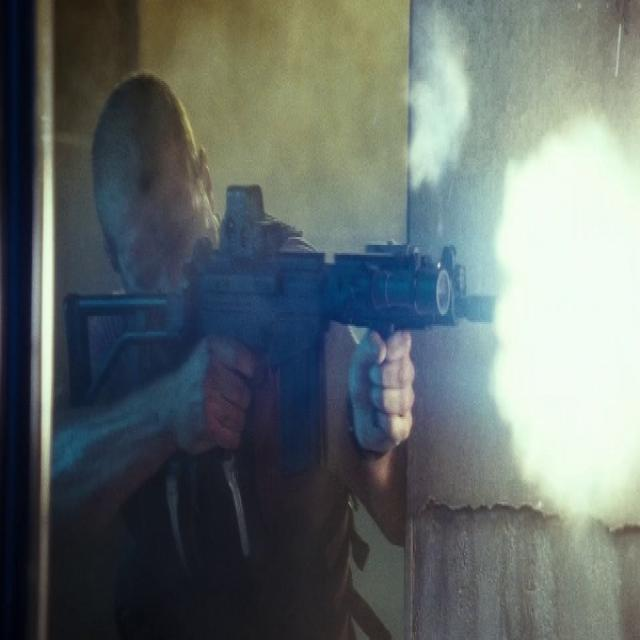rifle: (62, 175, 507, 456)
